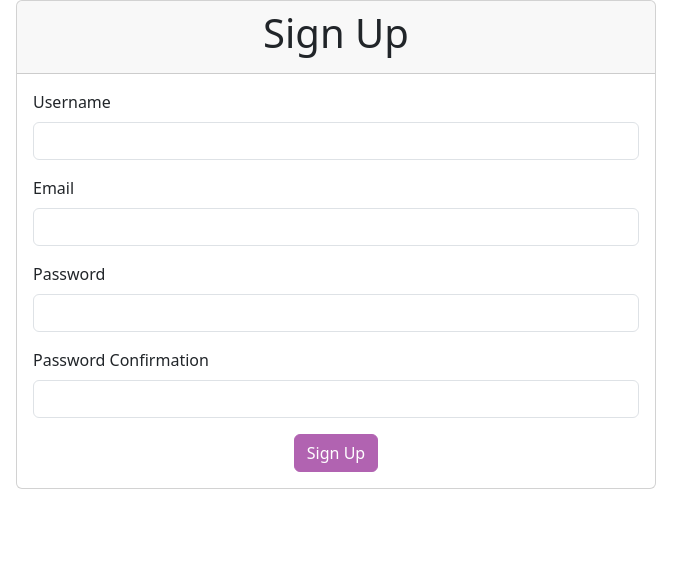
Sign Up › when user set same value for password inputs › when user submit form › when network failure occurs › when user submit again › hide error when api request is progress
Type "user1" into the field labelled "Username" at coordinates (336, 141), box [33, 122, 639, 160]
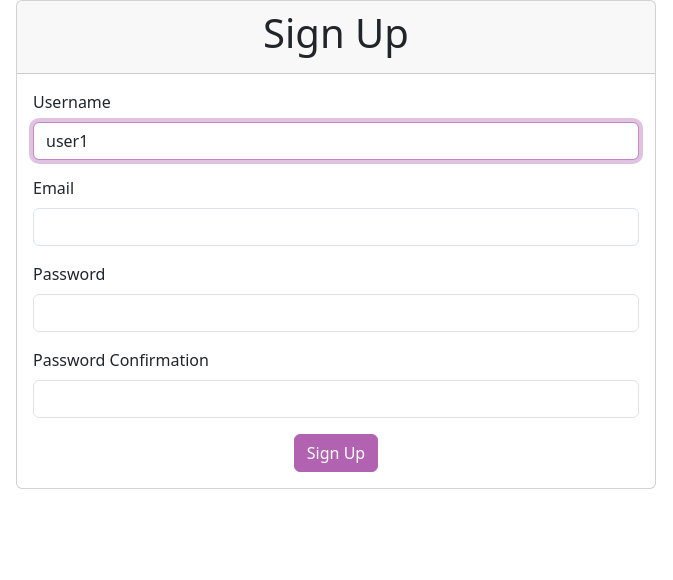
Type "user1@mail.com" into the field labelled "Email" at coordinates (336, 227), box [33, 208, 639, 246]
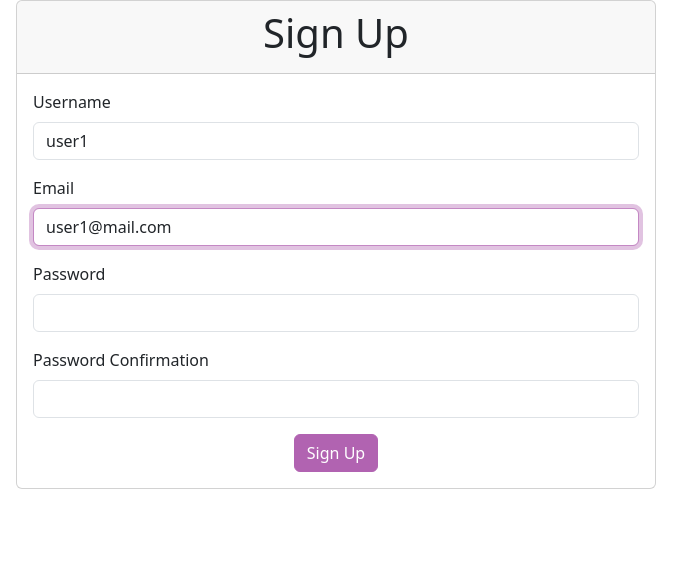
Type "P4ssword" into the password field labelled "Password" at coordinates (336, 313), box [33, 294, 639, 332]
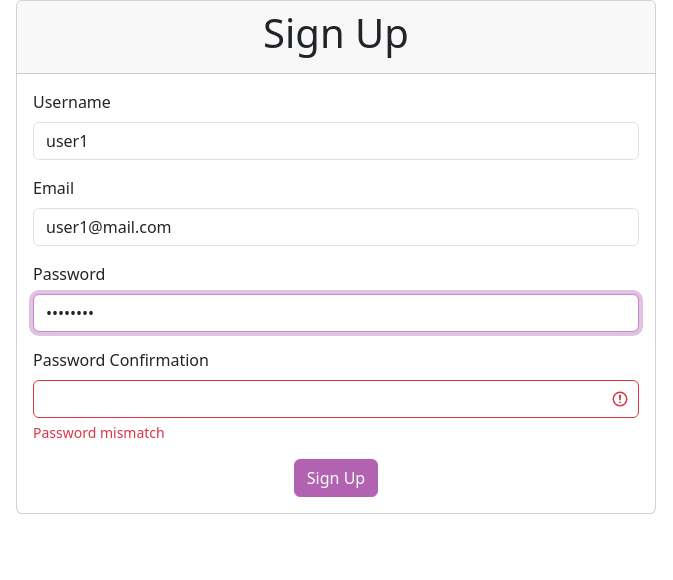
Type "P4ssword" into the password field labelled "Password Confirmation" at coordinates (336, 399), box [33, 380, 639, 418]
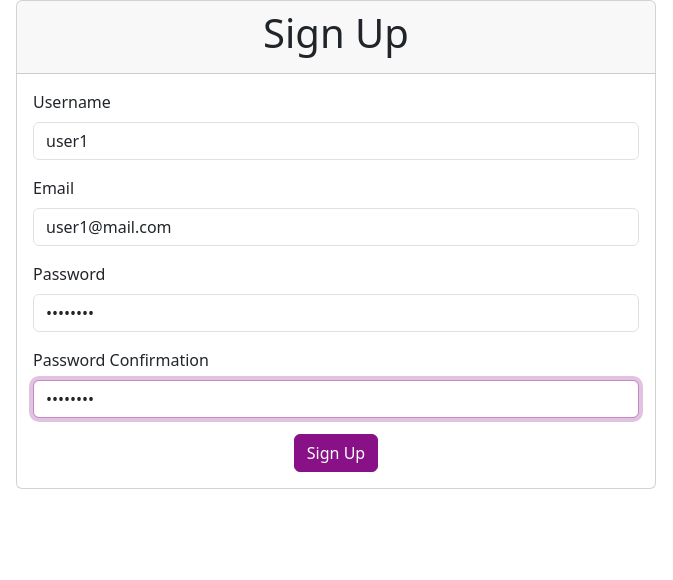
Click the button "Sign Up" at coordinates (336, 453), box [294, 434, 378, 472]
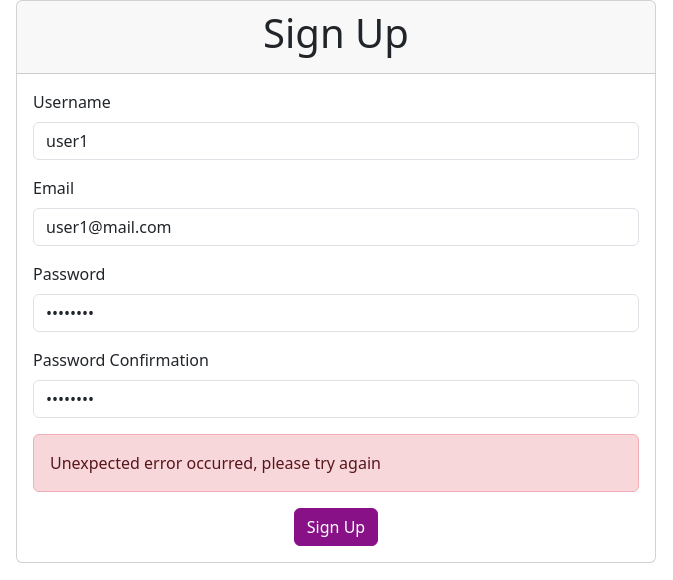
Click the button "Sign Up" at coordinates (336, 527), box [294, 508, 378, 546]
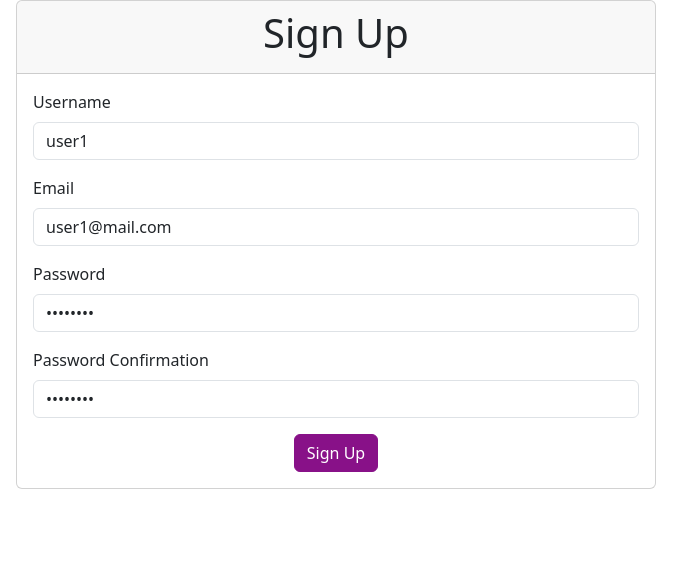
Check: the text "Unexpected error occurred, please try again" is gone
